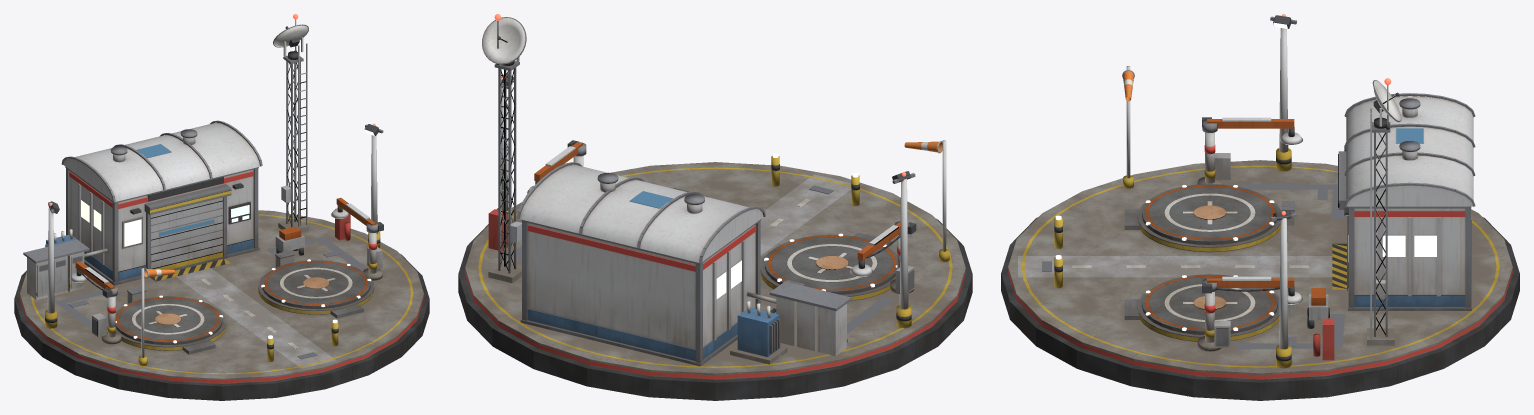
Rendered from drone_pad.glb.
3 views of the same model, side by side, from view 1: azimuth 30°, elevation 25°; view 2: azimuth 150°, elevation 25°; view 3: azimuth 270°, elevation 25° (orthographic). The views are drawn at different scales.
Visible parts, largest first — view 1: Build0Body, Build3Body, Build1Body, Build4Body, Build5Body, DoorBody, Build6Body, Build2Body, Build7Body, DishBody, Charger0Body, Charger1Body; view 2: Build0Body, Build3Body, Build4Body, Build5Body, Build1Body, Build6Body, Build7Body, DishBody, Build2Body, Charger0Body, Charger1Body; view 3: Build0Body, Build1Body, Build4Body, Build3Body, Build2Body, Build7Body, Build5Body, Build6Body, Charger1Body, Charger0Body, DishBody.
Boxes of the visible parts, x1,y1,x2,y2 form: Build0Body: (14, 210, 429, 400); Build3Body: (66, 168, 259, 285); Build1Body: (115, 250, 374, 354); Build4Body: (61, 120, 262, 203); Build5Body: (23, 208, 350, 365); DoorBody: (151, 197, 222, 269); Build6Body: (278, 19, 308, 232); Build2Body: (55, 232, 382, 344); Build7Body: (45, 123, 383, 328); DishBody: (273, 24, 308, 59); Charger0Body: (69, 261, 117, 297); Charger1Body: (331, 197, 383, 232); Build0Body: (458, 162, 972, 400); Build3Body: (520, 221, 760, 366); Build4Body: (517, 162, 765, 264); Build5Body: (488, 140, 949, 364); Build1Body: (673, 188, 897, 301); Build6Body: (488, 21, 521, 283); Build7Body: (496, 73, 915, 328); DishBody: (482, 17, 526, 65); Build2Body: (511, 155, 914, 333); Charger0Body: (850, 221, 916, 276); Charger1Body: (527, 140, 586, 193); Build0Body: (1001, 160, 1519, 400); Build1Body: (1124, 184, 1294, 341); Build4Body: (1344, 93, 1475, 208); Build3Body: (1338, 145, 1471, 310); Build2Body: (1197, 132, 1344, 351); Build7Body: (1270, 14, 1296, 368); Build5Body: (1054, 66, 1334, 360); Build6Body: (1367, 85, 1394, 345); Charger1Body: (1202, 276, 1302, 303); Charger0Body: (1202, 117, 1302, 144); DishBody: (1372, 80, 1401, 128).
Bounding box in the file's own units: 13.36 × 8.21 × 13.36.
Materials: 25 (13 with a texture image).
